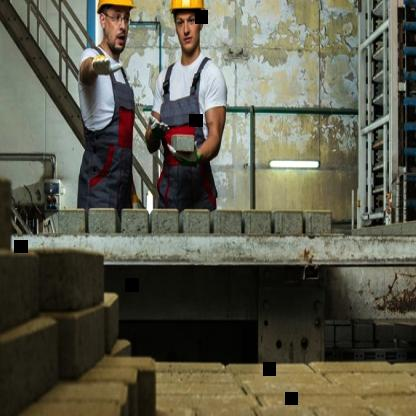helmet: (92, 0, 138, 54), (166, 0, 210, 54)
